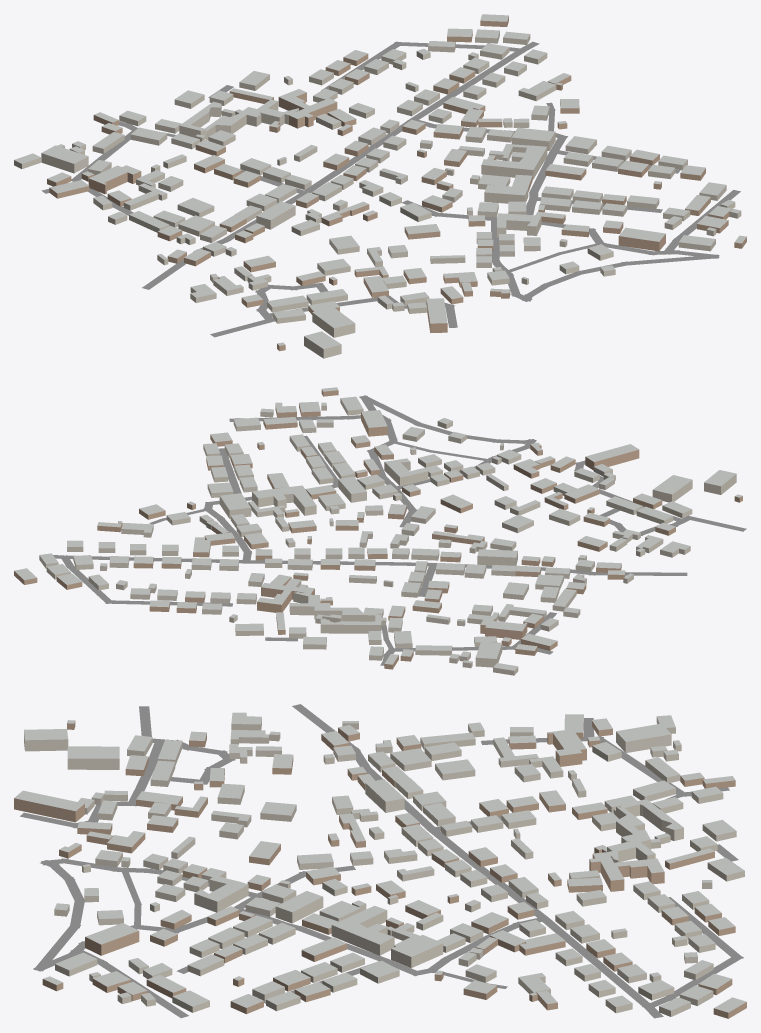
File: bolak_5_-9.glb
3 renders of one model, top to bottom at view 1: azimuth 30°, elevation 25°; view 2: azimuth 150°, elevation 25°; view 3: azimuth 270°, elevation 25°, orthographic. The views are drawn at different scales.
Visible parts, largest first — view 1: Tom_Shifer, Devor_Suvoq-col, Devor_Gisht-col, Yol_Mahalla; view 2: Tom_Shifer, Devor_Suvoq-col, Devor_Gisht-col, Yol_Mahalla; view 3: Tom_Shifer, Devor_Suvoq-col, Devor_Gisht-col, Yol_Mahalla.
Boxes of the visible parts, x1=… form: Tom_Shifer: x1=14, y1=14, x2=746, y2=348; Devor_Suvoq-col: x1=14, y1=31, x2=741, y2=358; Devor_Gisht-col: x1=47, y1=16, x2=746, y2=351; Yol_Mahalla: x1=41, y1=41, x2=740, y2=337; Tom_Shifer: x1=14, y1=387, x2=742, y2=670; Devor_Suvoq-col: x1=39, y1=398, x2=736, y2=675; Devor_Gisht-col: x1=14, y1=389, x2=742, y2=669; Yol_Mahalla: x1=53, y1=395, x2=746, y2=665; Tom_Shifer: x1=14, y1=712, x2=746, y2=1012; Devor_Suvoq-col: x1=24, y1=715, x2=744, y2=1016; Devor_Gisht-col: x1=14, y1=721, x2=746, y2=1018; Yol_Mahalla: x1=20, y1=704, x2=743, y2=1018.
Size of the model in its own units: 434 by 7.2 by 427.
